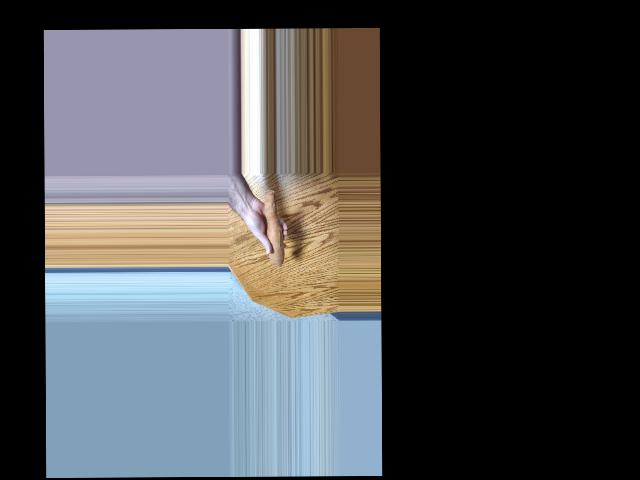sweet_potato: (262, 186, 286, 268)
